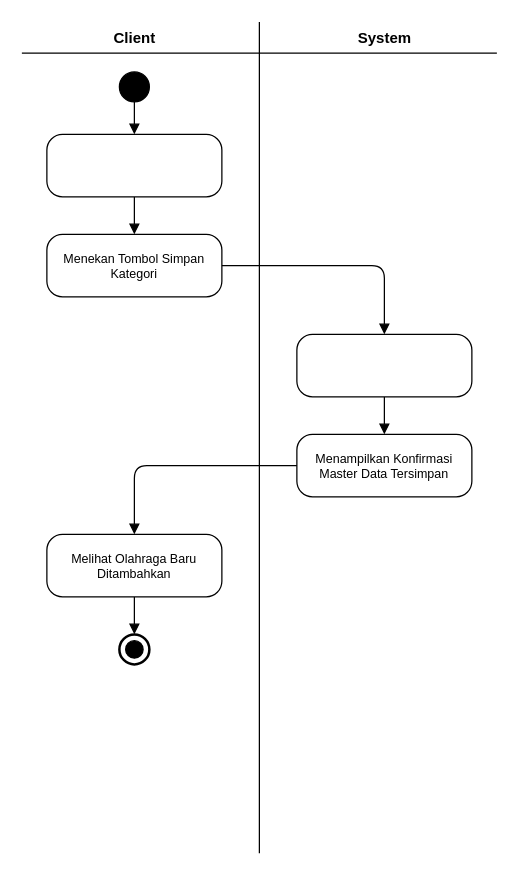
This 520x876 diagram has some shape labels left out. Each missing label, with the box of its shape:
Akses Menu Sport Types & Input Kategori: (46, 133, 222, 197)
Menyimpan Master Kategori Olahraga Baru: (296, 333, 472, 397)
